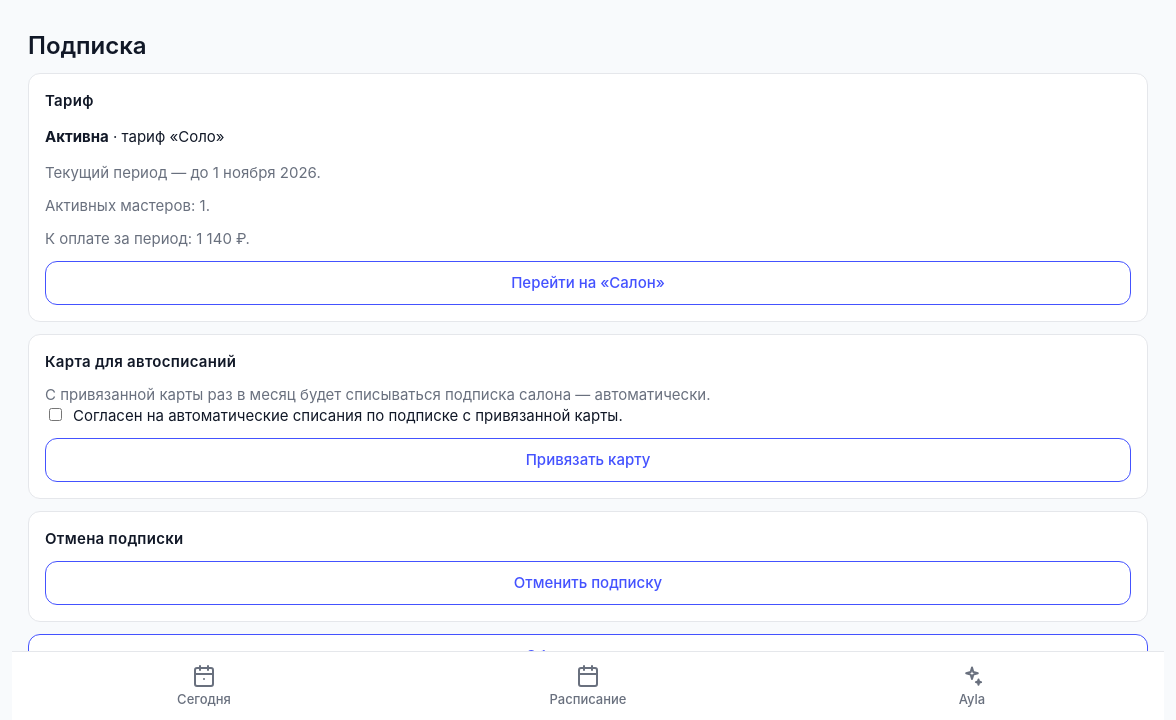
переход «Соло» → «Салон» (В-2) › с экрана подписки соло — к подтверждению с ценой; цену шлёт обратно
Click the button "Перейти на «Салон»": (588, 283) 45,261 -> 1131,305
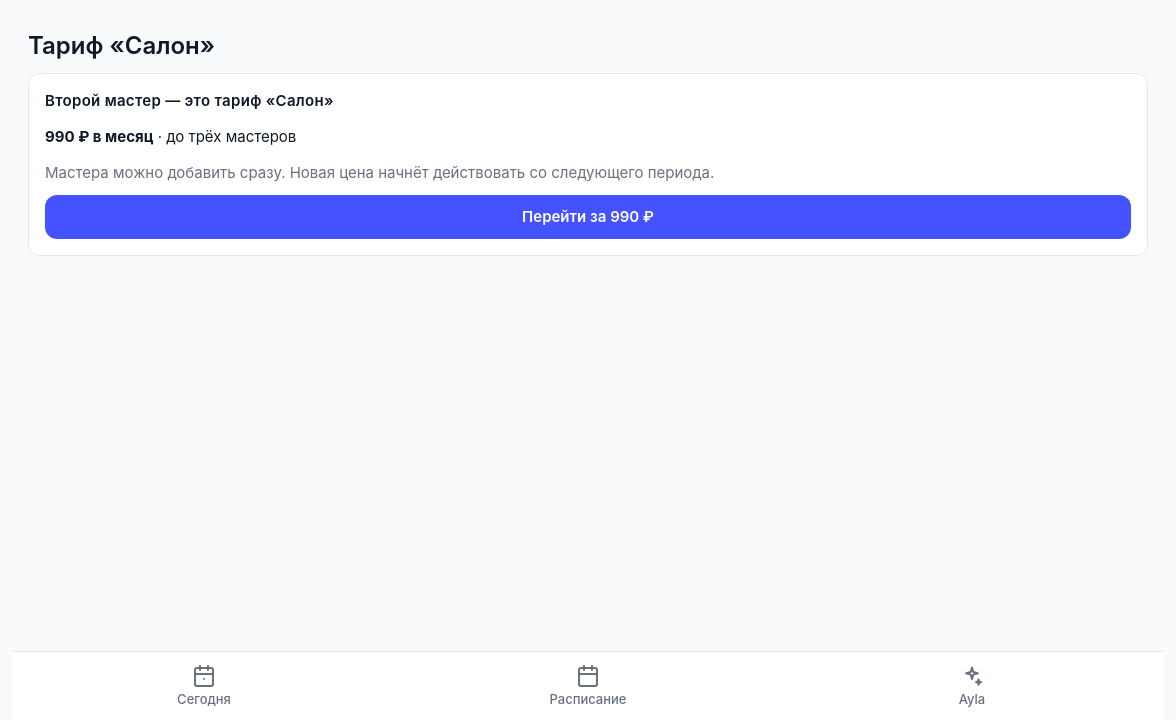
Click the button "Перейти за 990 ₽": (588, 217) 45,195 -> 1131,239
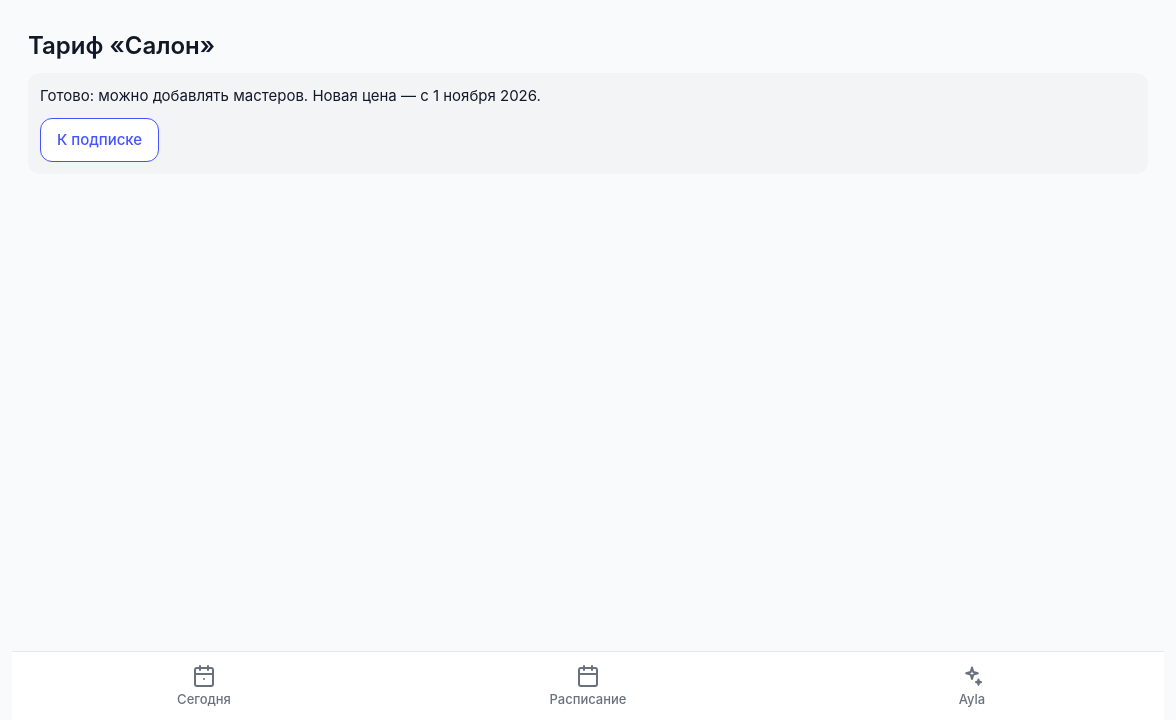
Check: the text "Готово: можно добавлять мастеров" is shown, box 40,86 -> 541,105
